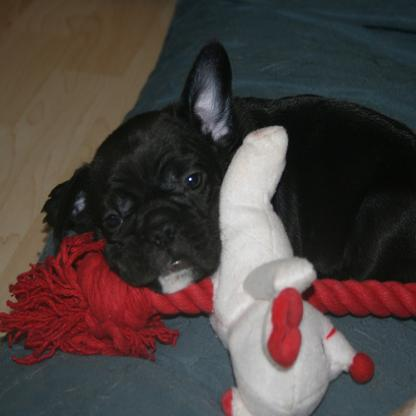dog: (40, 40, 415, 295)
